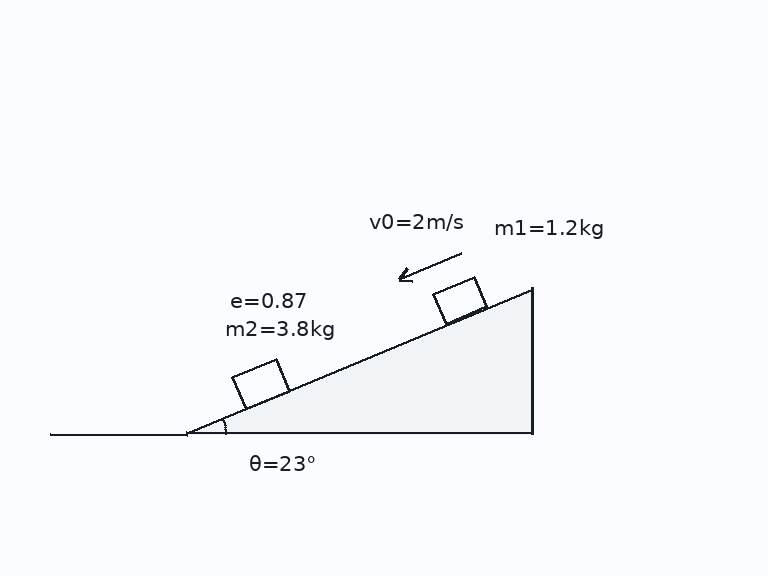block: (230, 357, 290, 411), (431, 275, 488, 326)
ramp: (184, 285, 534, 436)
